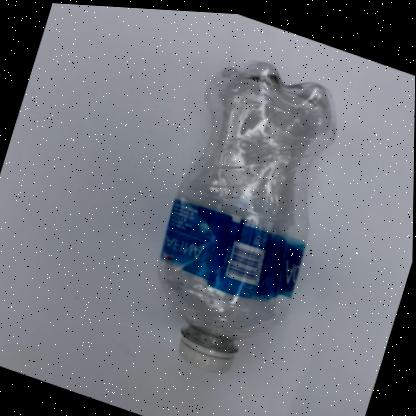Plastic: (158, 58, 334, 370)
